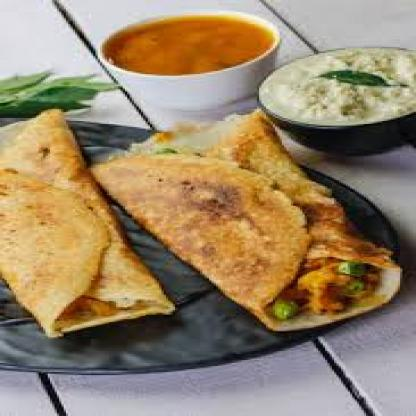dosa: (89, 109, 400, 331), (0, 110, 175, 337)
